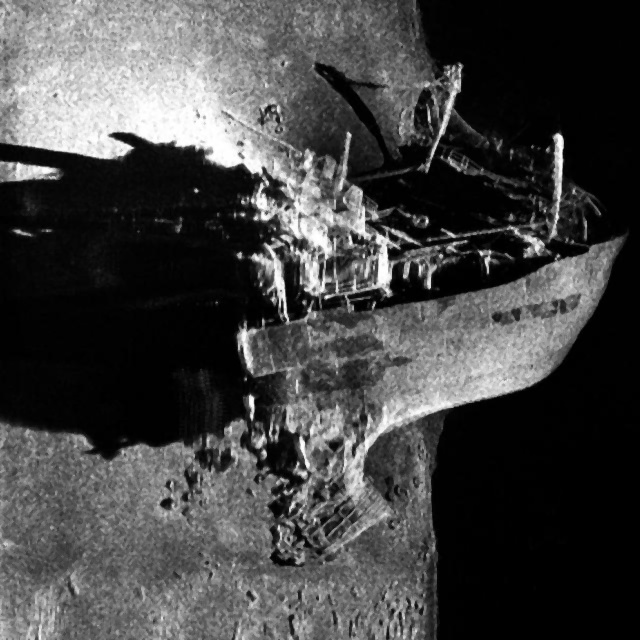Ship: (1, 52, 633, 456)
